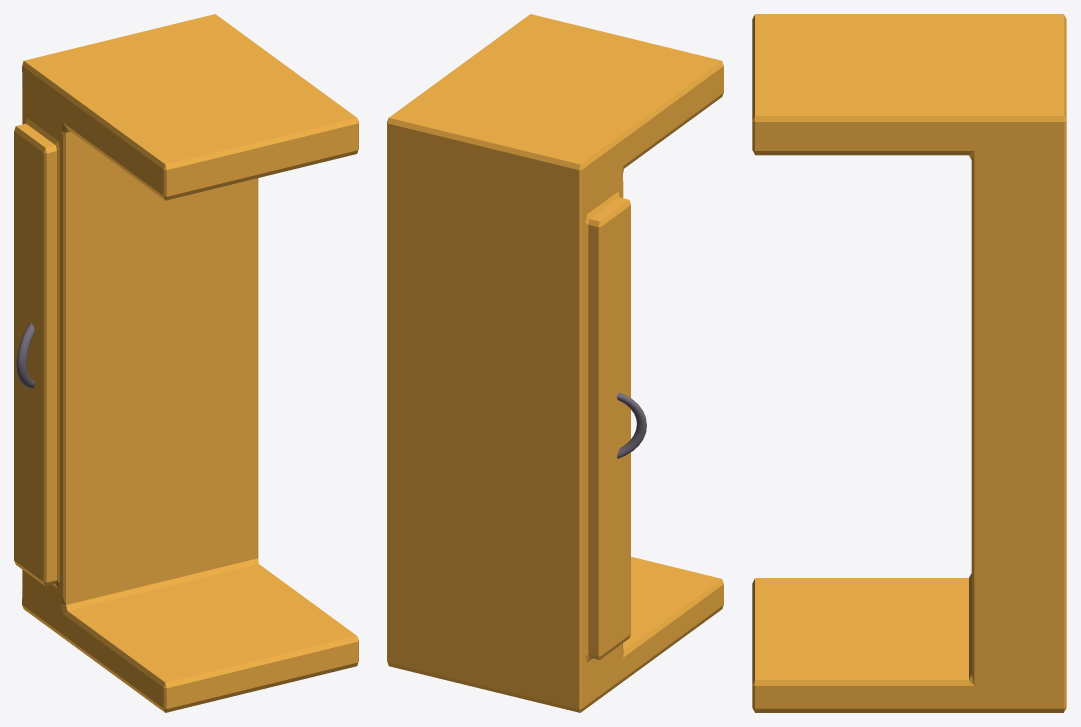
File: table1.fbx
3 renders of one model, left to right at view 1: azimuth 30°, elevation 25°; view 2: azimuth 150°, elevation 25°; view 3: azimuth 270°, elevation 25°, orthographic. The views are drawn at different scales.
Parts seen in each view (by area): view 1: Wooden gabinet; view 2: Wooden gabinet; view 3: Wooden gabinet.
Part boxes in pixels (x1,y1,x2,y2): Wooden gabinet: [14, 14, 358, 712]; Wooden gabinet: [387, 14, 723, 712]; Wooden gabinet: [752, 14, 1066, 712].
Bounding box in the file's own units: 0.5332 × 1.22 × 0.5797.
1 material, 1 textured.
